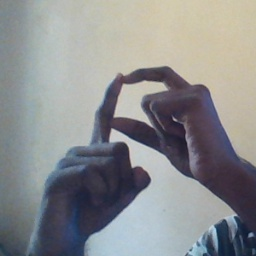D: (78, 63, 204, 188)
